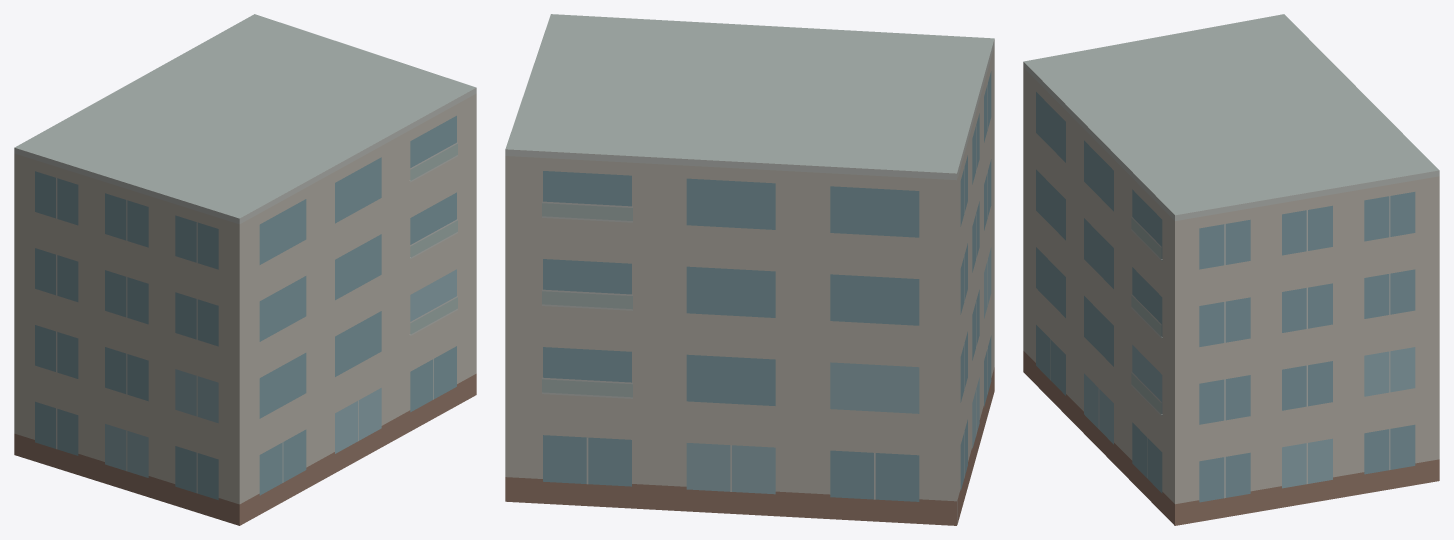
File: survey-upis-32762030.glb
The picture shows the model from 3 angles, left to right: view 1: azimuth 30°, elevation 25°; view 2: azimuth 150°, elevation 25°; view 3: azimuth 270°, elevation 25°; orthographic projection. The views are drawn at different scales.
Visible parts, largest first — view 1: survey-upis-32762030.tmp; view 2: survey-upis-32762030.tmp; view 3: survey-upis-32762030.tmp.
Boxes of the visible parts, box(x1,y1,x2,y2) form: survey-upis-32762030.tmp: box(14, 14, 476, 525); survey-upis-32762030.tmp: box(505, 14, 994, 525); survey-upis-32762030.tmp: box(1023, 14, 1439, 525).
Bounding box in the file's own units: 18.01 × 12.95 × 15.73.
